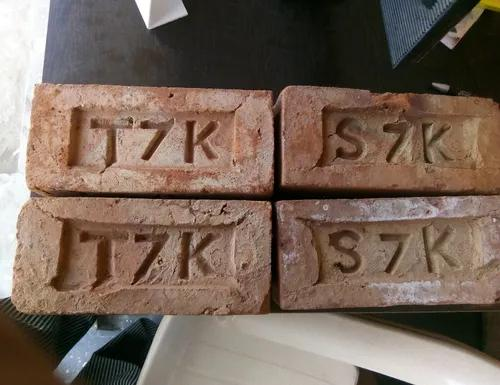brick: (13, 199, 271, 312), (25, 84, 273, 191), (281, 195, 497, 312), (284, 88, 499, 186)
